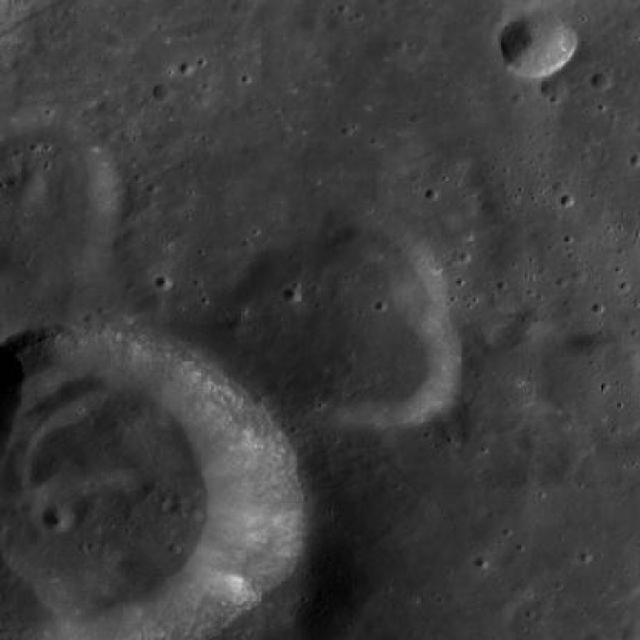crater: (221, 227, 462, 438), (0, 248, 146, 440), (304, 213, 444, 335), (0, 120, 120, 262), (458, 318, 566, 412), (498, 11, 576, 77), (4, 172, 46, 206), (41, 503, 74, 531), (539, 75, 567, 98), (104, 31, 132, 54), (151, 83, 171, 102), (590, 72, 610, 90), (176, 60, 195, 77), (282, 286, 301, 302), (620, 626, 640, 640)
